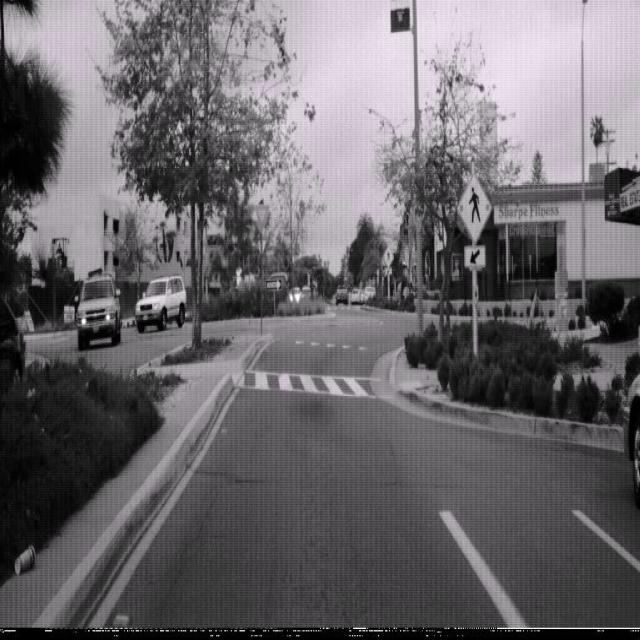pedestrianCrossing: (456, 170, 492, 244)
yield: (253, 202, 270, 233)
